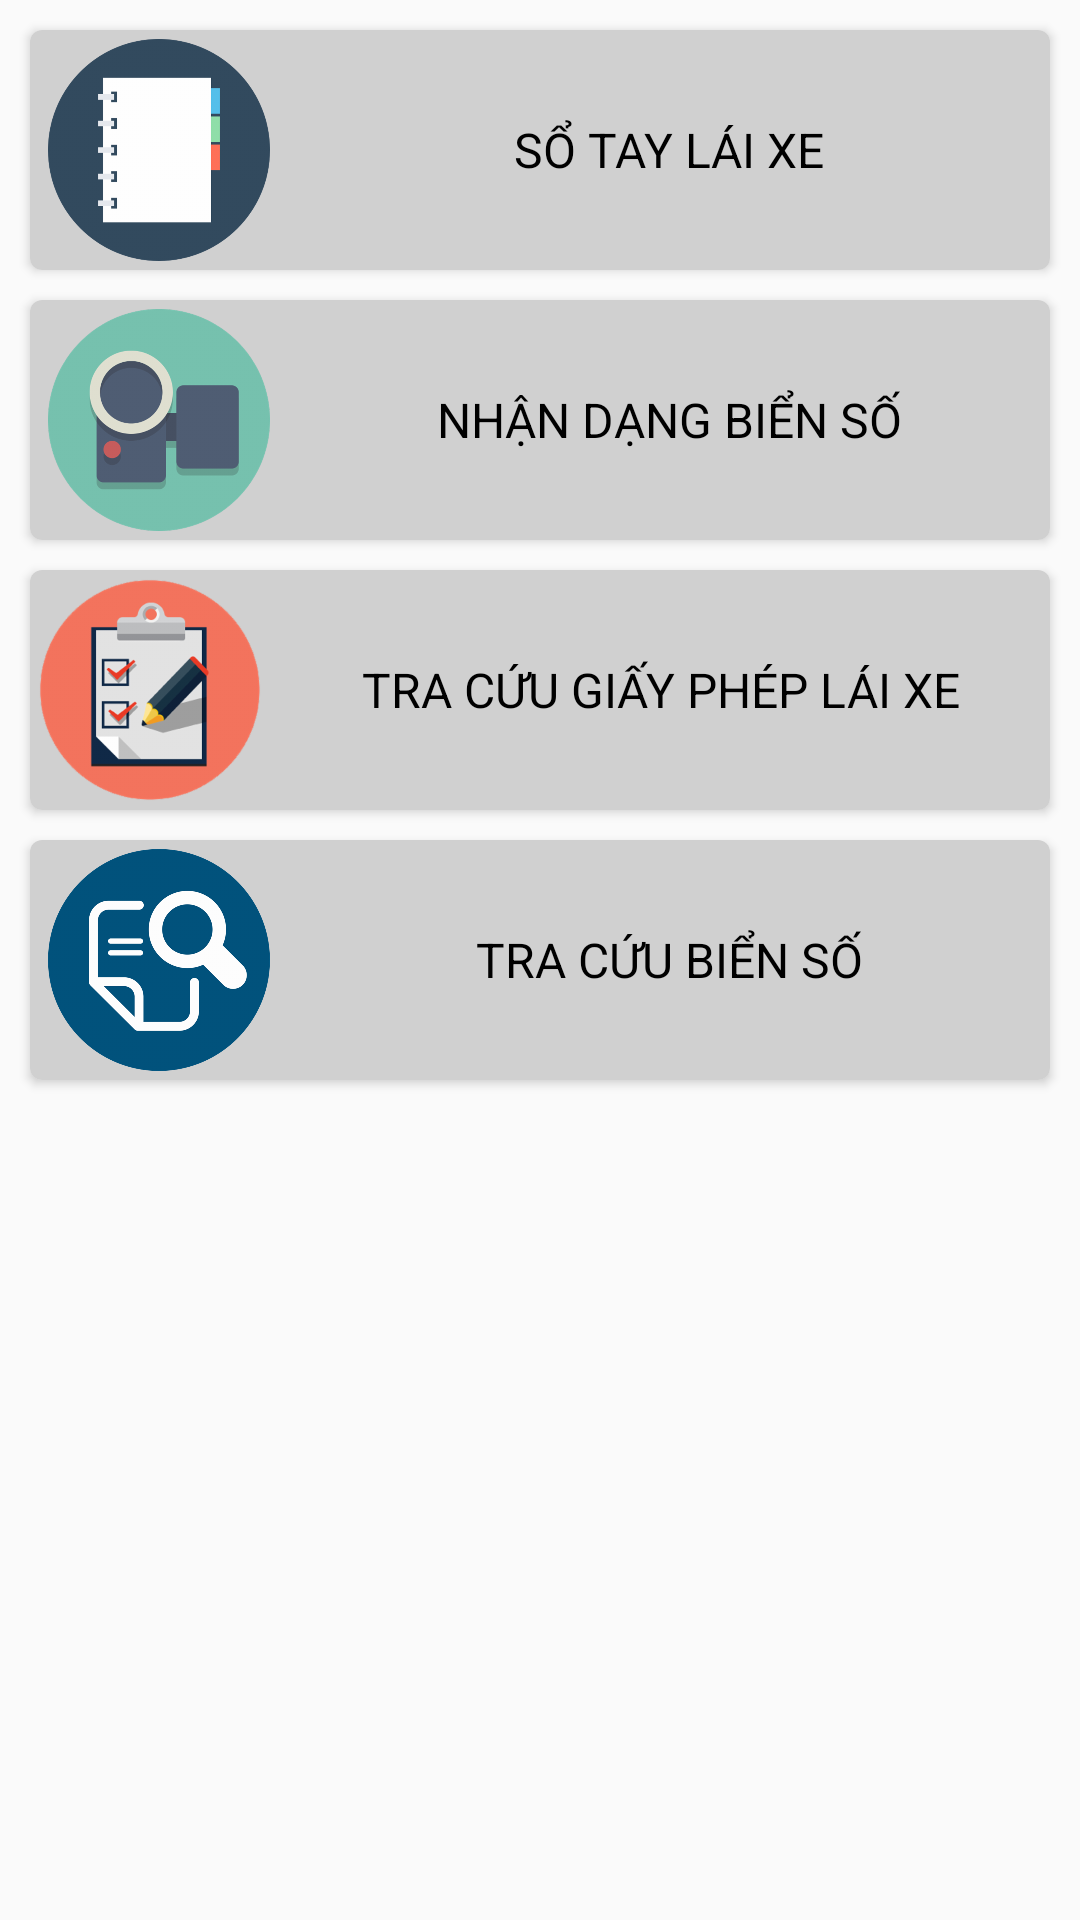

Named icons in this screenshot (1080px×1920px) and their centers, (x,y):
bienban: (150,690)
notebook: (159,150)
recogrizer camera: (159,420)
search: (159,960)
